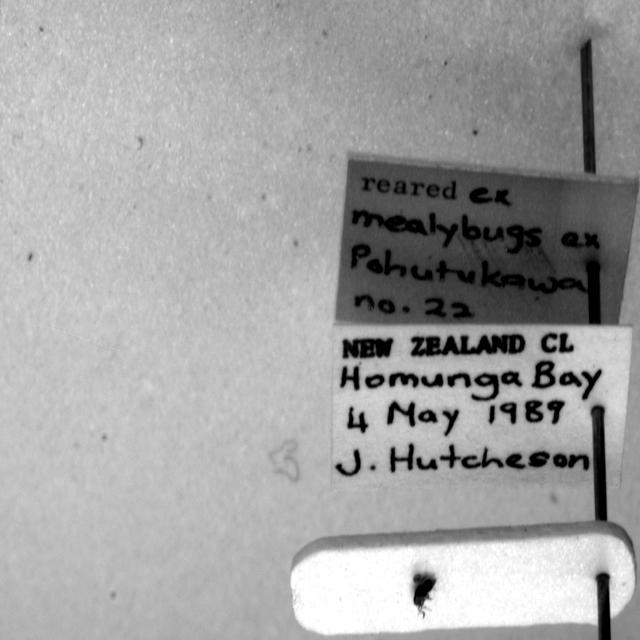mixed_label: (331, 324, 631, 491), (336, 159, 638, 324)
